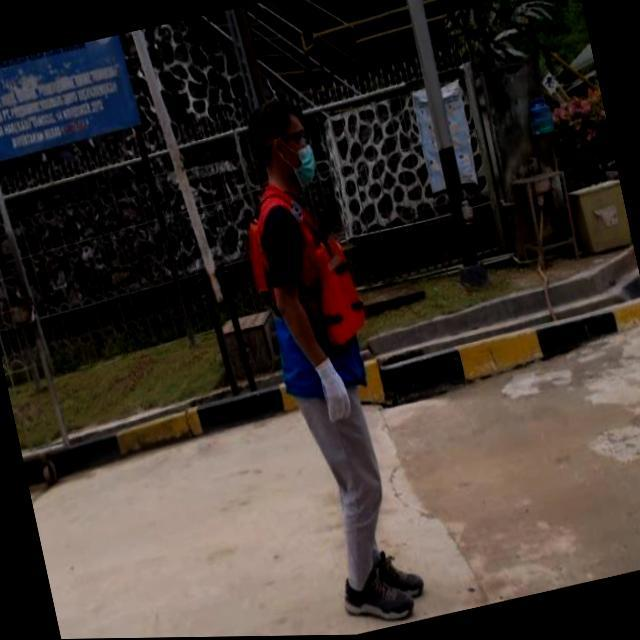goggles_on: (268, 125, 318, 158)
